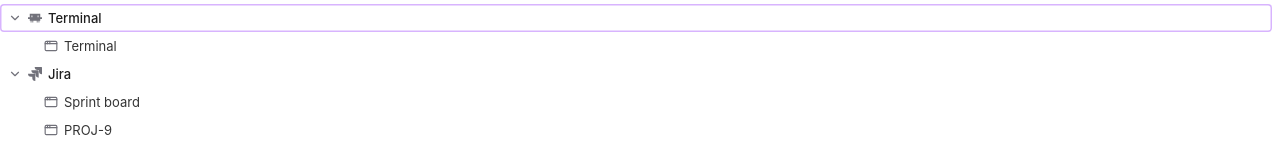
Scenario: PanelTabTree (PANEL-TABS-TREE-UI-01) › clicking a group header collapses it (its tab rows disappear)
Check: the text "Sprint board" is shown, box [64, 92, 140, 112]
Click the text "Jira" at (60, 74), box [48, 64, 71, 84]
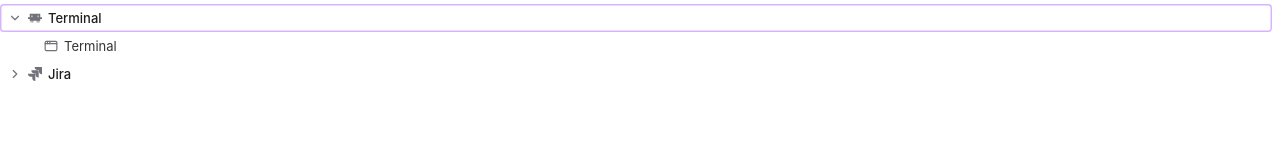
Check: the text "Sprint board" is gone
